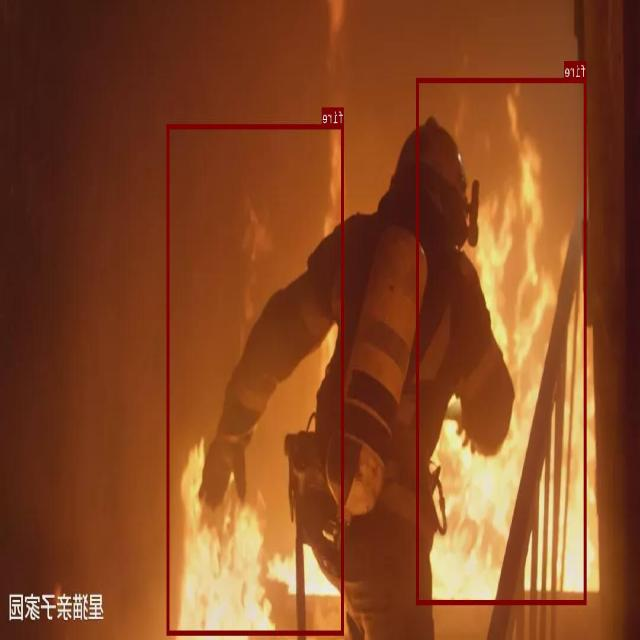fire: (168, 124, 344, 634), (417, 77, 587, 604)
